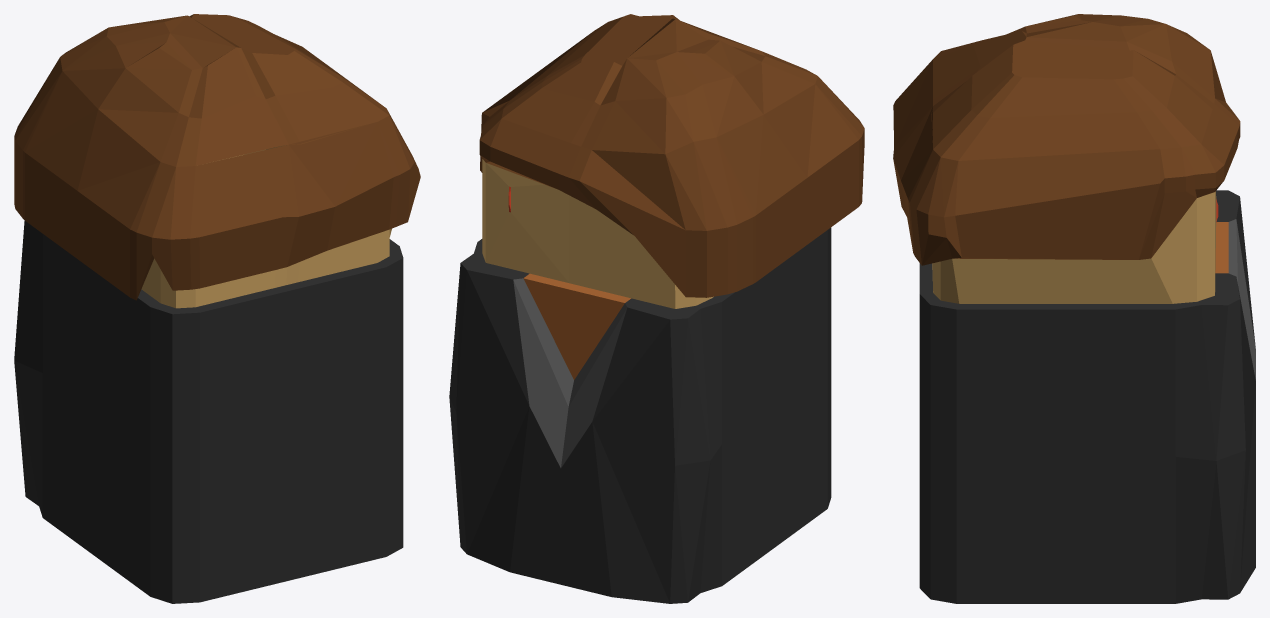
Rendered from Anakin.fbx.
3 renders of one model, left to right at view 1: azimuth 30°, elevation 25°; view 2: azimuth 150°, elevation 25°; view 3: azimuth 270°, elevation 25°, orthographic. The views are drawn at different scales.
Visible parts, largest first — view 1: AnakinMesh; view 2: AnakinMesh; view 3: AnakinMesh.
Part boxes in pixels (<box>): AnakinMesh: <box>14,14,420,603</box>; AnakinMesh: <box>449,14,864,603</box>; AnakinMesh: <box>893,14,1255,603</box>.
Size of the model in its own units: 210 by 342 by 223.
